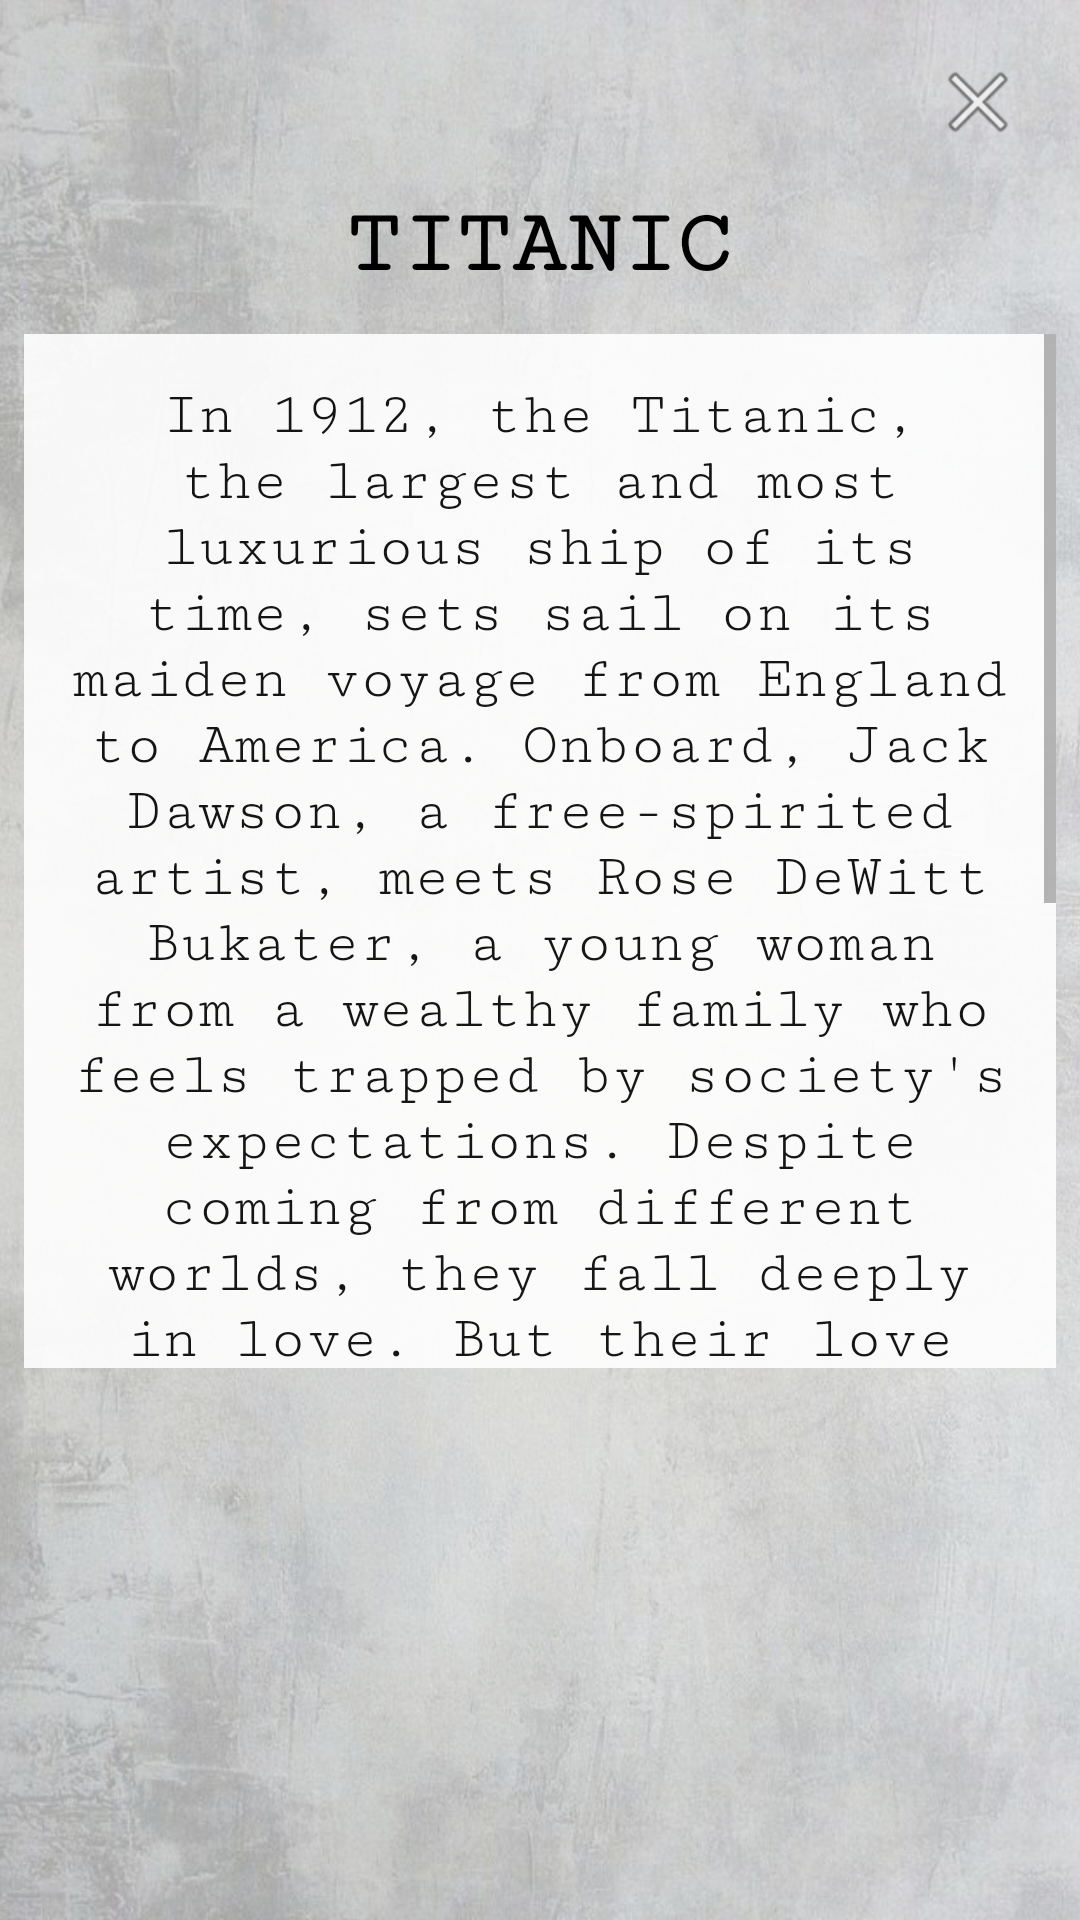

Named icons in this screenshot (1080w x 1920h) and their centers, (x,y):
Close: (978,102)
